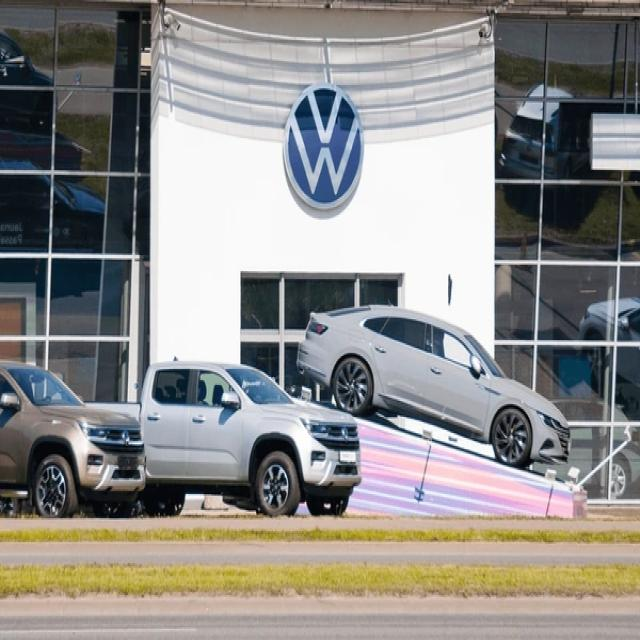wolksvogen: (282, 85, 369, 210)
